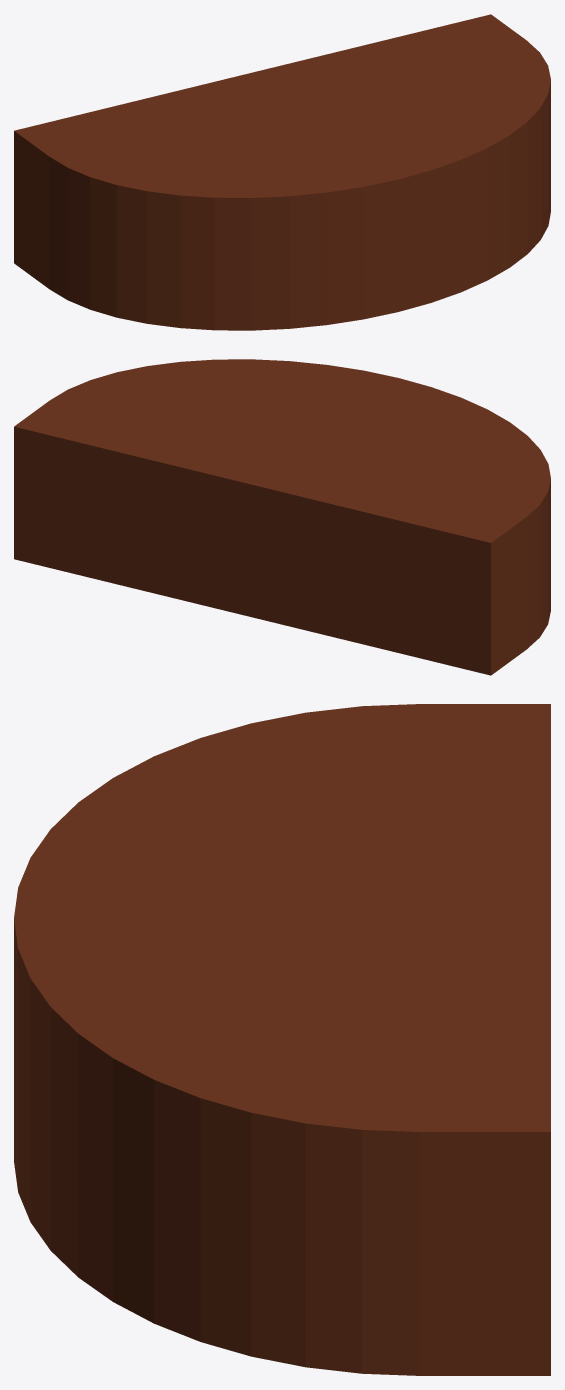
Rendered from ReceptionDesk.fbx.
3 views of the same model, one above another, from view 1: azimuth 30°, elevation 25°; view 2: azimuth 150°, elevation 25°; view 3: azimuth 270°, elevation 25° (orthographic). The views are drawn at different scales.
Visible parts, largest first — view 1: Reception Desk; view 2: Reception Desk; view 3: Reception Desk.
Part boxes in pixels (left/top/right/bottom): Reception Desk: left=14, top=14, right=550, bottom=330; Reception Desk: left=14, top=359, right=550, bottom=675; Reception Desk: left=14, top=704, right=550, bottom=1375.
Bounding box in the file's own units: 2.53 × 0.672 × 1.34.
